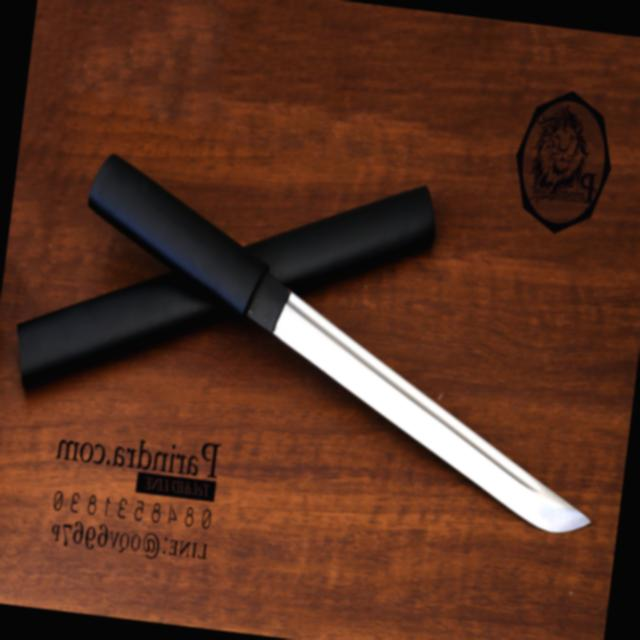short sword: (0, 114, 633, 557)
